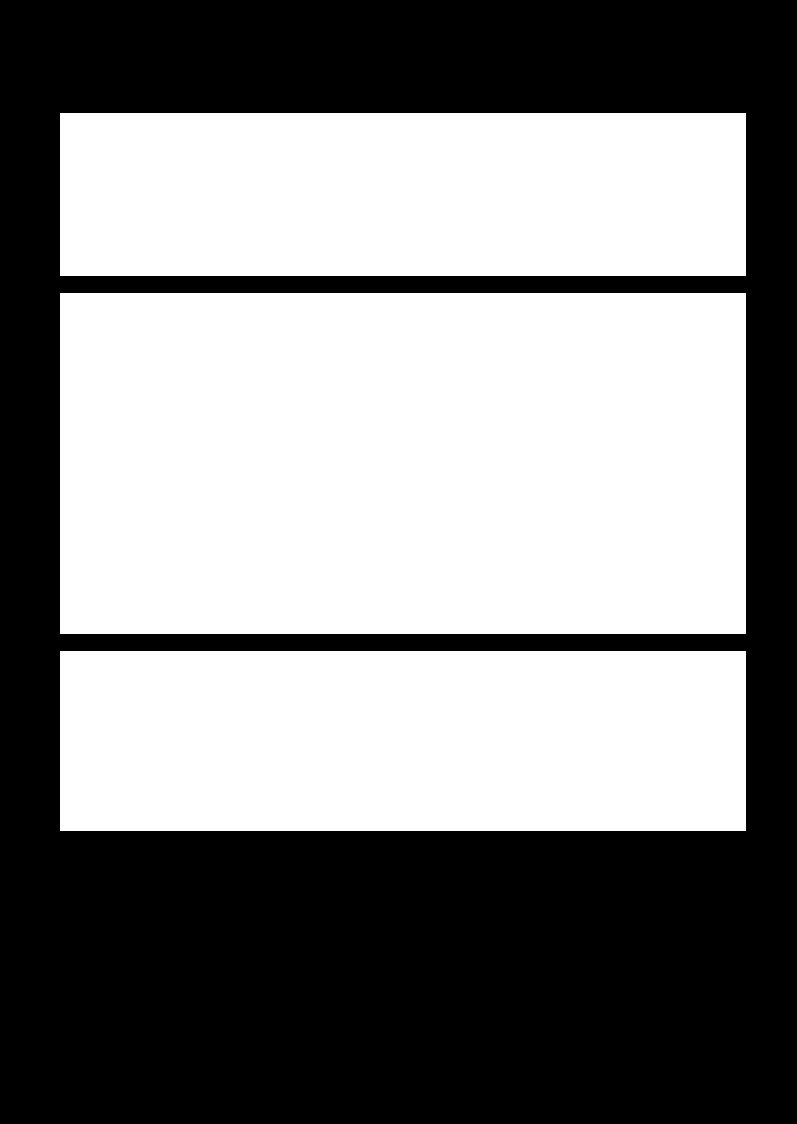table: (60, 293, 745, 633), (60, 651, 745, 830), (60, 113, 745, 275)
